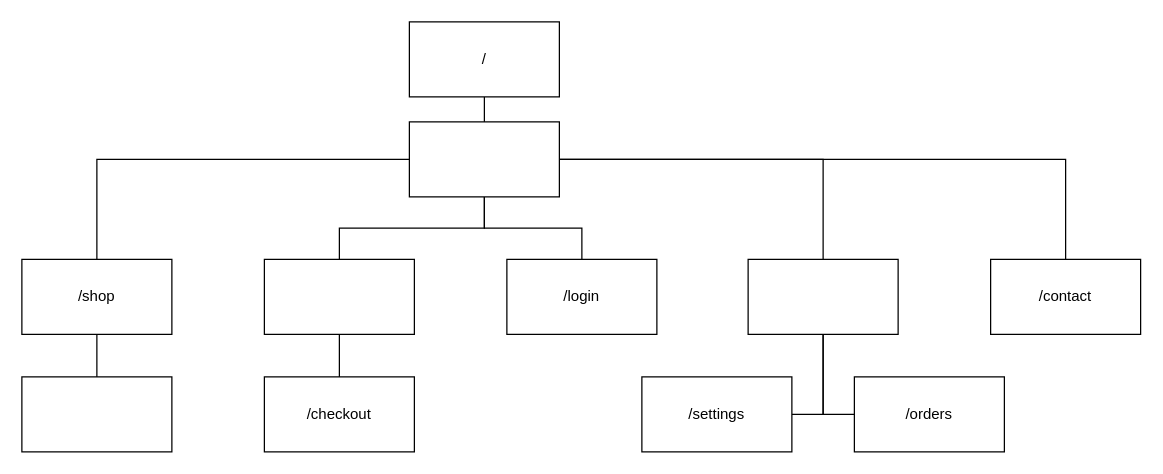
Some shapes in this 1163 by 474 pixel diagram are drawn without their labels. The shapes that lost their labels are listed below. From the top down, each one's box as (x1, y1, x2, y2) in pixels, then its label:
(408, 121, 559, 197): /landing-page
(263, 258, 414, 334): /shoppingcart
(747, 258, 898, 334): /profile
(21, 376, 172, 452): /product{1-10}
